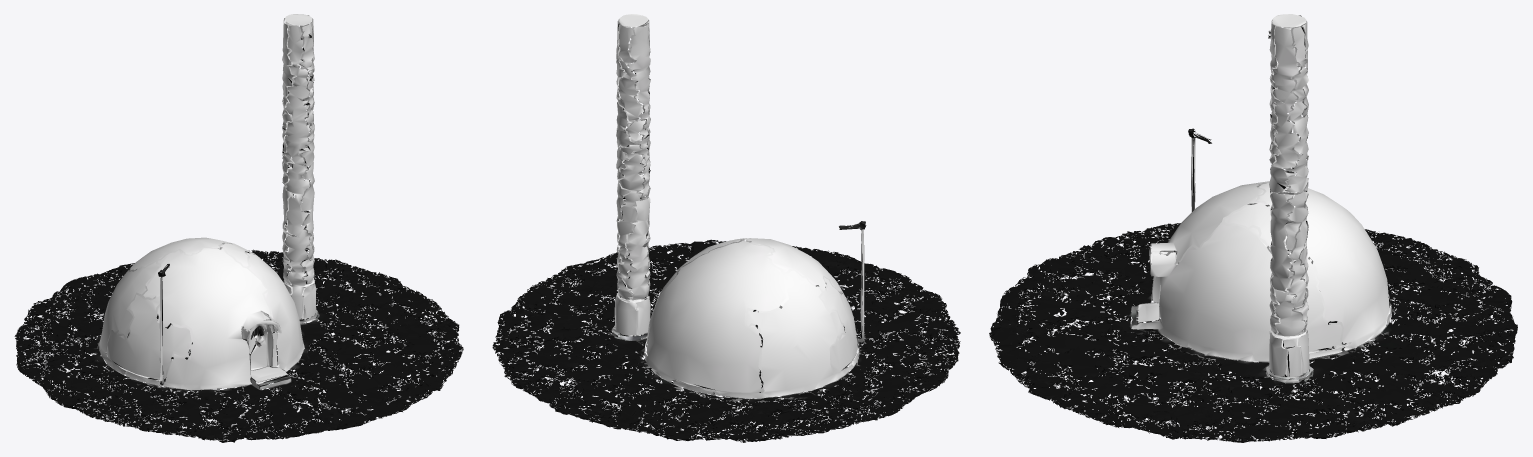
Rendered from lahmu-homestead.hq.glb.
3 renders of one model, left to right at view 1: azimuth 30°, elevation 25°; view 2: azimuth 150°, elevation 25°; view 3: azimuth 270°, elevation 25°, orthographic. The views are drawn at different scales.
Parts seen in each view (by area): view 1: low; view 2: low; view 3: low.
Part boxes in pixels (x1,y1,x2,y2): low: (14,14,463,442); low: (492,14,960,442); low: (989,14,1517,442).
Size of the model in its own units: 1 by 0.7429 by 0.9996.
1 material, 1 textured.
